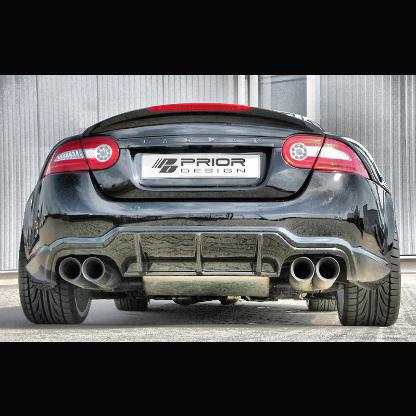Jaguar XK XKR 2012: (19, 102, 403, 328)
